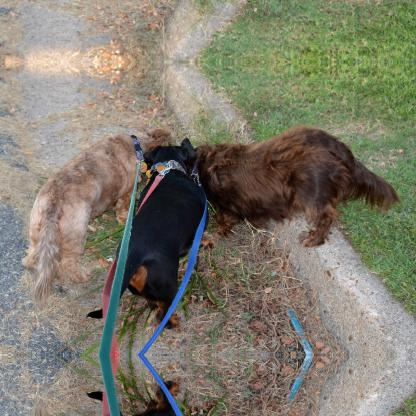Dog: (20, 126, 176, 307), (190, 124, 402, 246), (84, 136, 210, 326)
